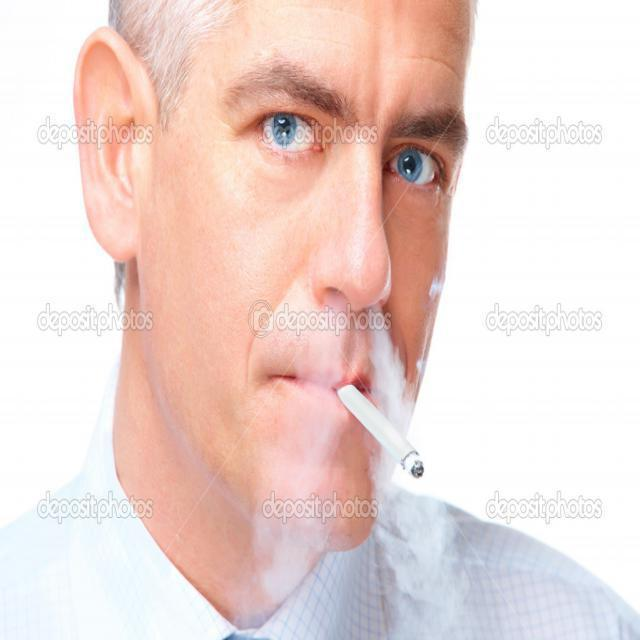smoking: (319, 379, 428, 483)
